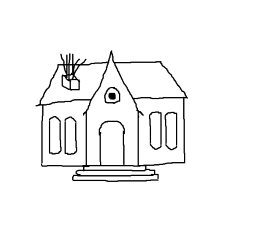door: (96, 117, 128, 170)
open_window: (163, 111, 182, 154), (62, 110, 79, 158), (45, 114, 63, 159), (147, 106, 164, 152)
roof: (29, 58, 194, 105)
smoking_chimney: (59, 47, 86, 90)
wall: (32, 94, 192, 169)
